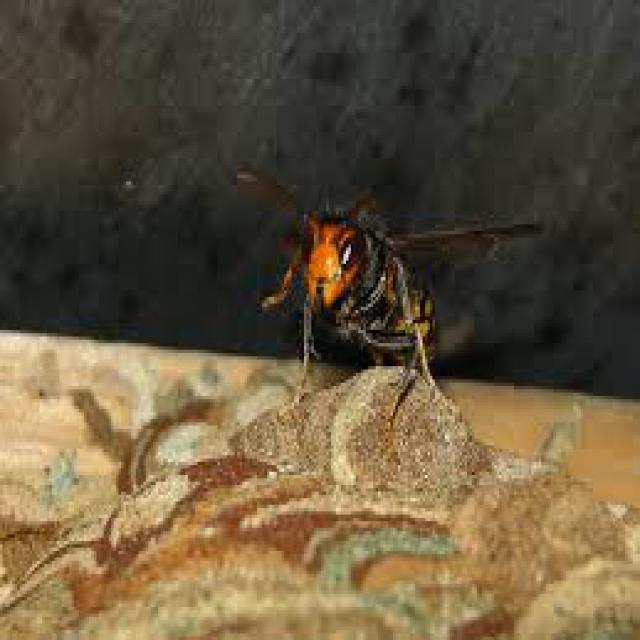Vespa Velutina: (229, 149, 552, 437)
